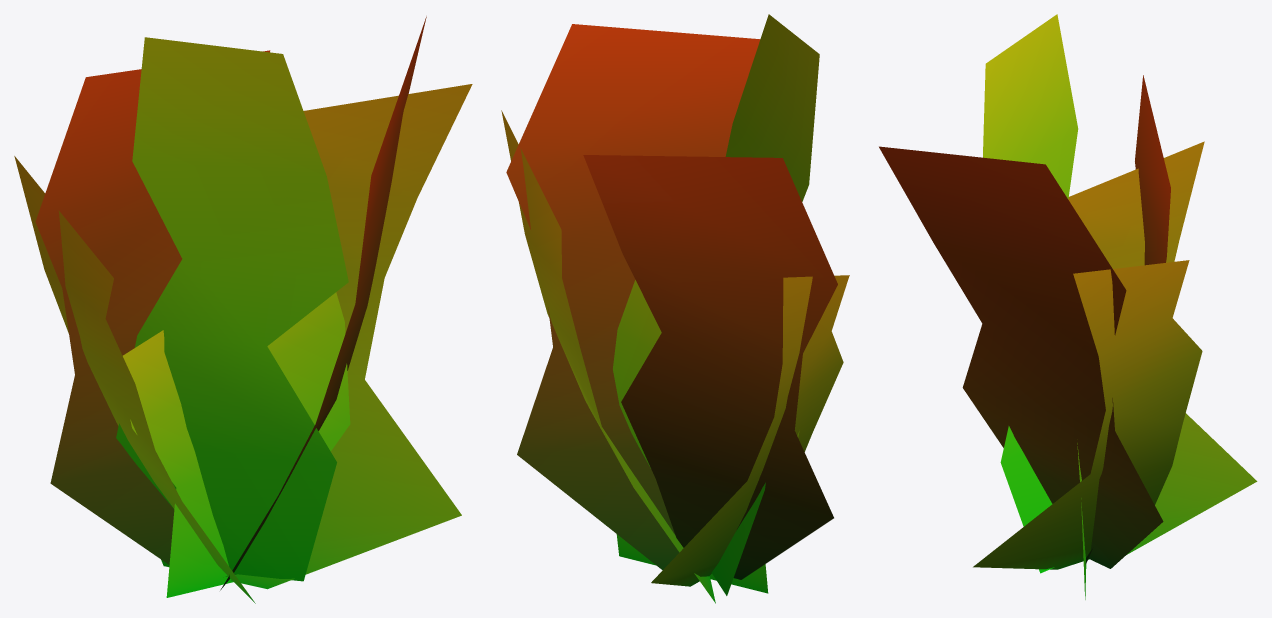
The model's file is Var8Hi6.fbx.
3 renders of one model, left to right at view 1: azimuth 30°, elevation 25°; view 2: azimuth 150°, elevation 25°; view 3: azimuth 270°, elevation 25°, orthographic. The views are drawn at different scales.
Visible parts, largest first — view 1: bend1; view 2: bend1; view 3: bend1.
Boxes of the visible parts, x1,y1,x2,y2 form: bend1: [14, 16, 472, 603]; bend1: [501, 14, 849, 603]; bend1: [879, 14, 1257, 599].
Bounding box in the file's own units: 1.27 × 1.76 × 1.2.
